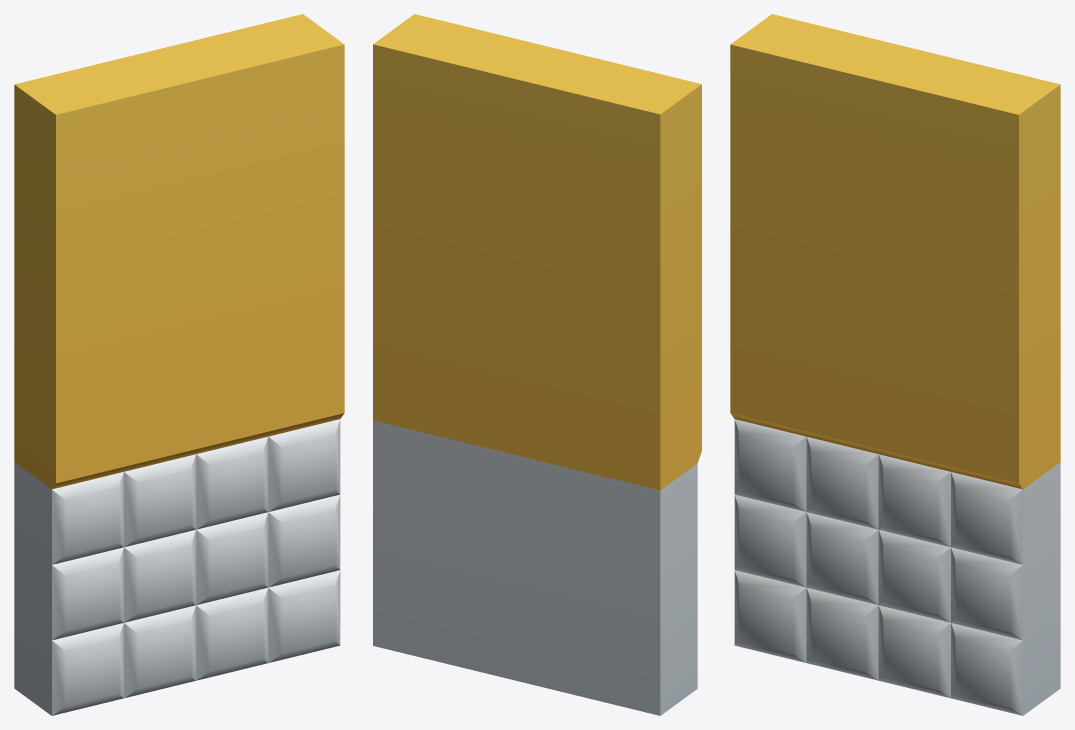
The model's file is wall_tiled_straight.fbx.
3 renders of one model, left to right at view 1: azimuth 30°, elevation 25°; view 2: azimuth 150°, elevation 25°; view 3: azimuth 330°, elevation 25°, orthographic.
Parts seen in each view (by area): view 1: wall_tiled_straight; view 2: wall_tiled_straight; view 3: wall_tiled_straight.
Boxes of the visible parts, bbox=[...] form: wall_tiled_straight: bbox=[14, 14, 344, 715]; wall_tiled_straight: bbox=[373, 14, 701, 715]; wall_tiled_straight: bbox=[730, 14, 1060, 715].
Size of the model in its own units: 2 by 4 by 0.5.
